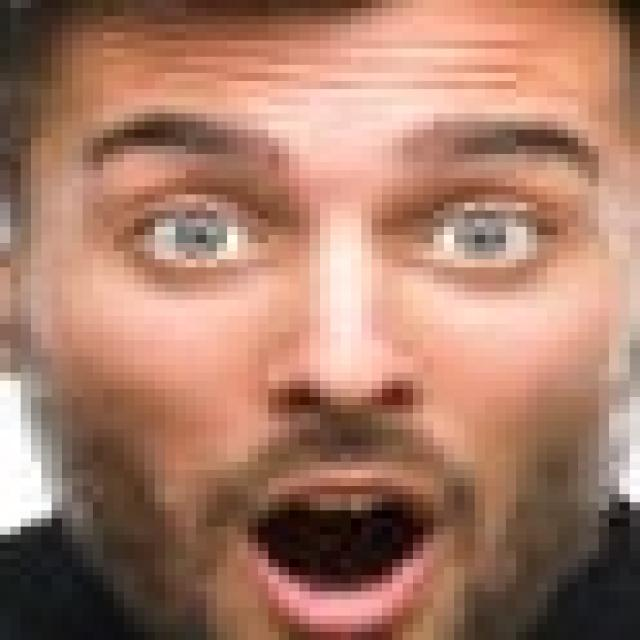Anxiety: (25, 0, 630, 632)
